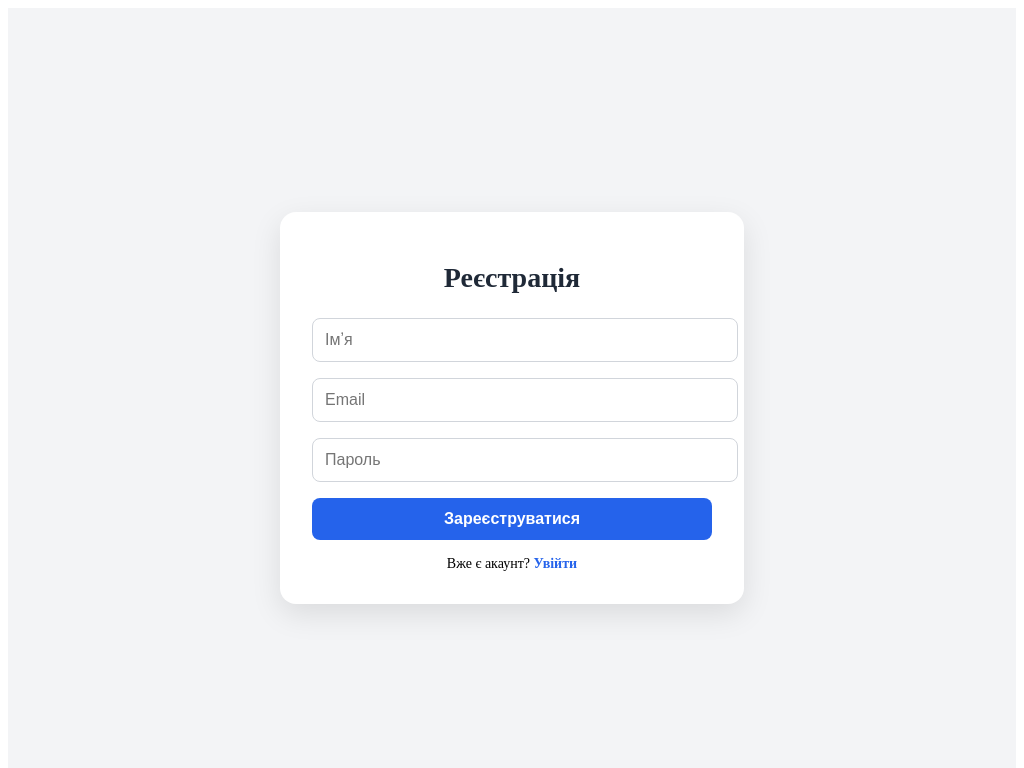
Test case: RegisterPage › displays an error message if registration fails
This screenshot has width=1024, height=768.
Type "Test User" into the field with placeholder "Імʼя". click: (525, 340)
box: [312, 318, 738, 362]
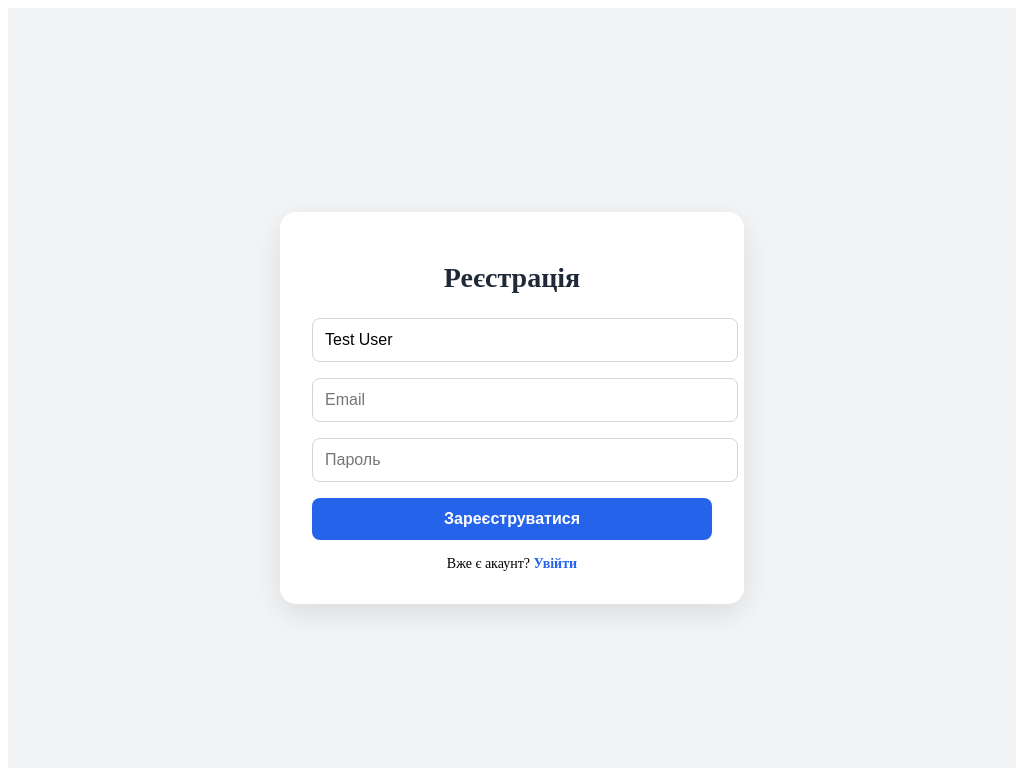
Type "test@example.com" into the field with placeholder "Email". click: (525, 400)
box: [312, 378, 738, 422]
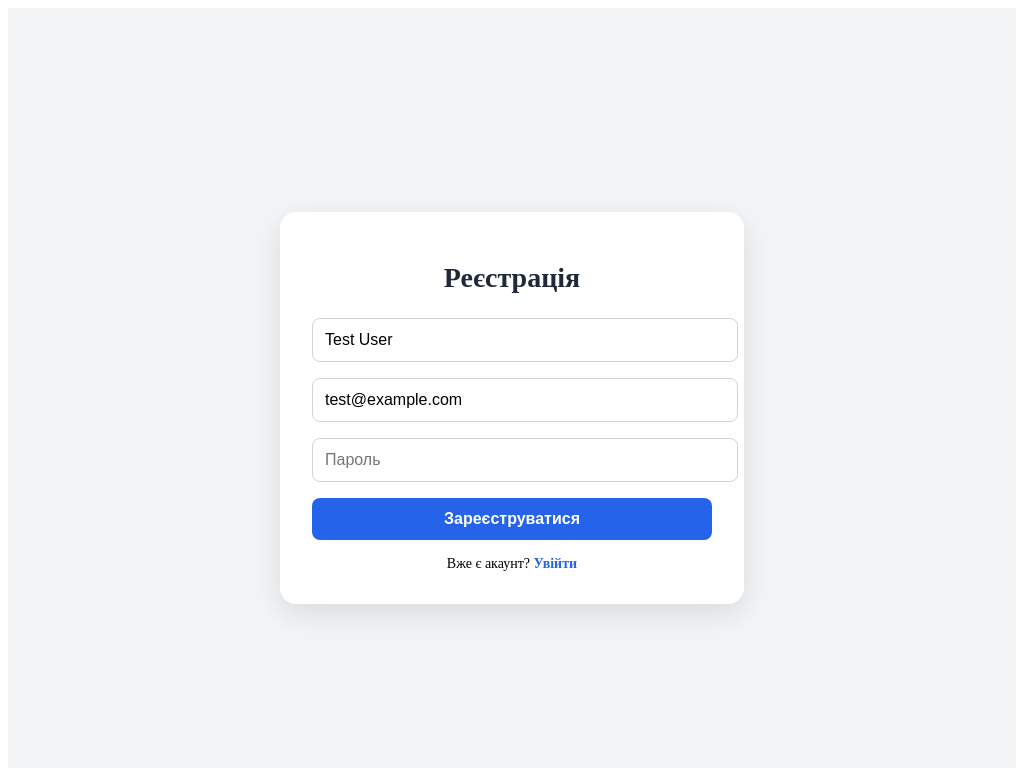
Type "password123" into the password field with placeholder "Пароль". click: (525, 460)
box: [312, 438, 738, 482]
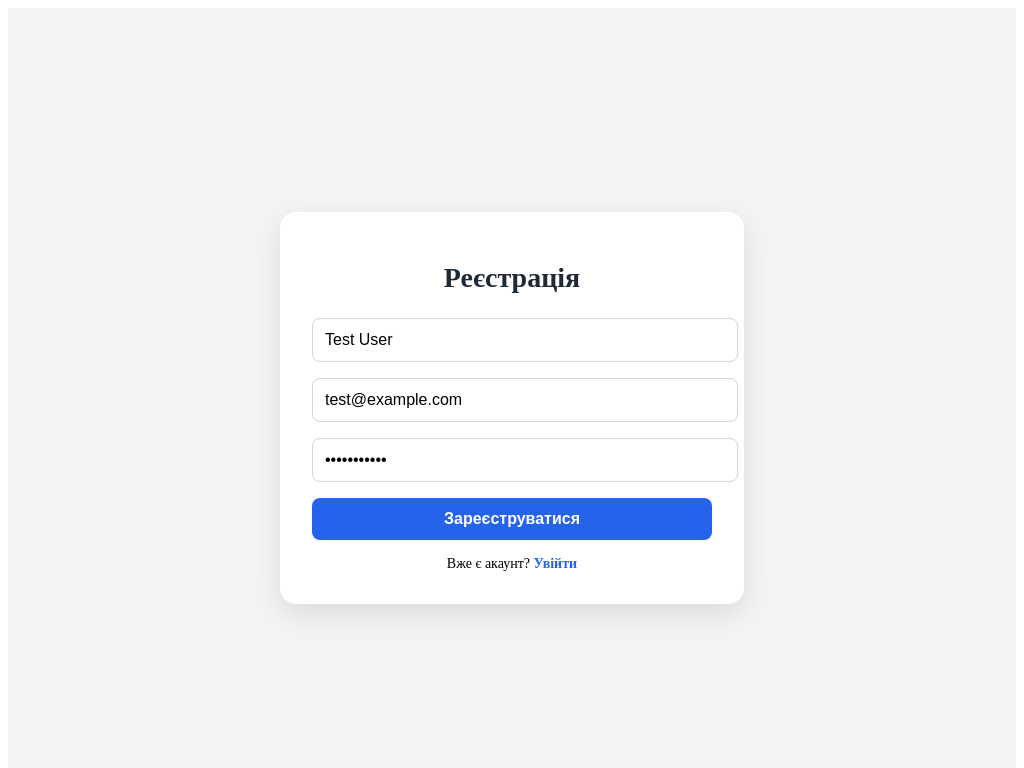
Click the button "Зареєструватися". click: (512, 519)
box: [312, 498, 712, 540]
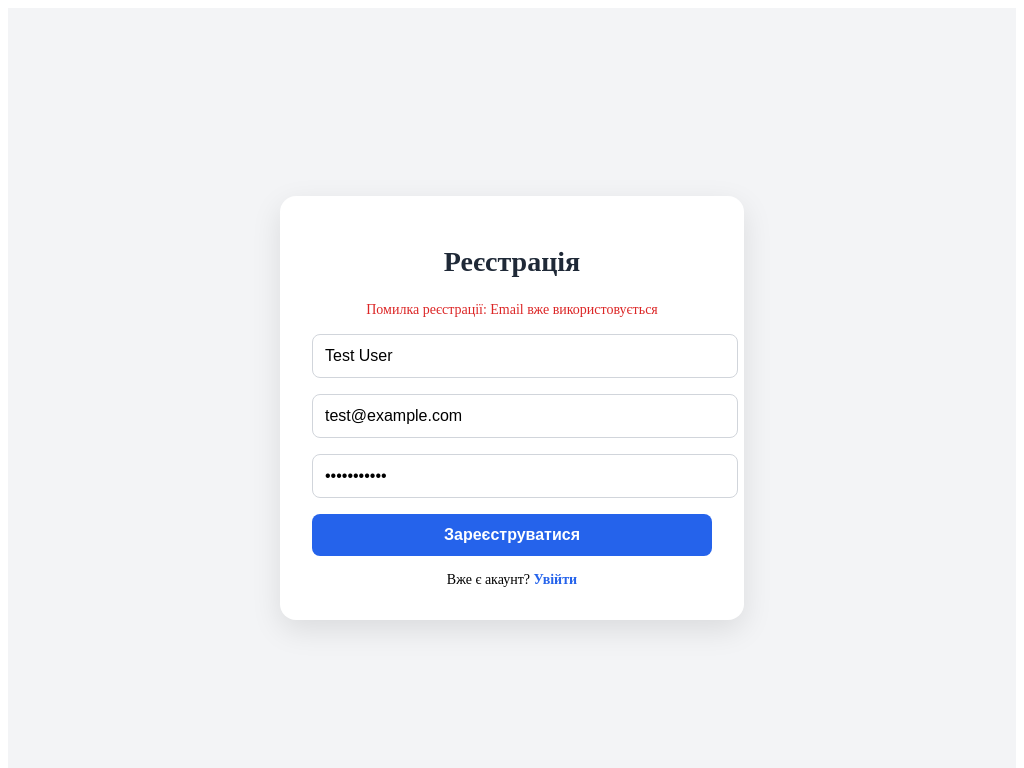
Now the text "Помилка реєстрації: Email вже використовується" is shown, box [366, 302, 658, 317]
